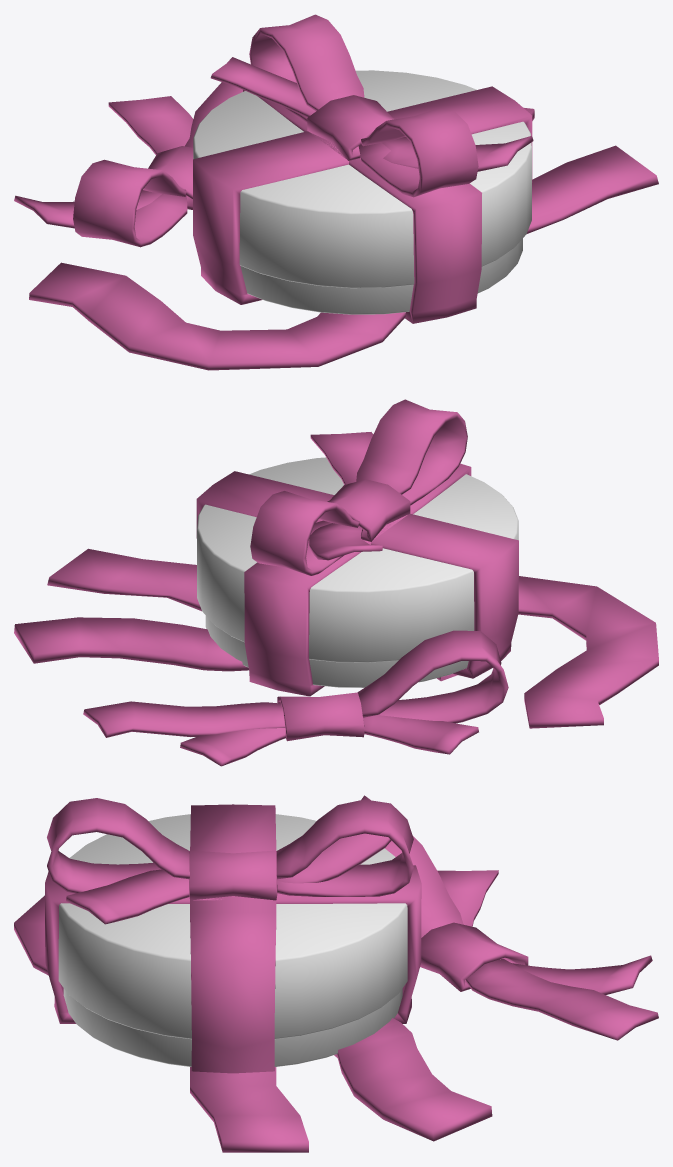
File: gift_4.fbx
The picture shows the model from 3 angles, top to bottom: view 1: azimuth 30°, elevation 25°; view 2: azimuth 150°, elevation 25°; view 3: azimuth 270°, elevation 25°; orthographic projection. The views are drawn at different scales.
Parts seen in each view (by area): view 1: pink, band_1_open.002, cap_3.001, box_3.001; view 2: band_1_open.002, pink, cap_3.001, box_3.001; view 3: pink, band_1_open.002, cap_3.001, box_3.001.
Boxes of the visible parts, left/top/right/bottom form: pink: left=193, top=14, right=533, bottom=323; band_1_open.002: left=14, top=82, right=658, bottom=370; cap_3.001: left=193, top=70, right=531, bottom=288; box_3.001: left=240, top=238, right=522, bottom=314; band_1_open.002: left=14, top=548, right=658, bottom=766; pink: left=196, top=399, right=518, bottom=696; cap_3.001: left=197, top=457, right=518, bottom=662; box_3.001: left=205, top=615, right=468, bottom=687; pink: left=45, top=795, right=421, bottom=1073; band_1_open.002: left=14, top=836, right=658, bottom=1152; cap_3.001: left=58, top=814, right=407, bottom=1039; box_3.001: left=63, top=988, right=402, bottom=1066.
Size of the model in its own units: 211 by 64.17 by 190.
